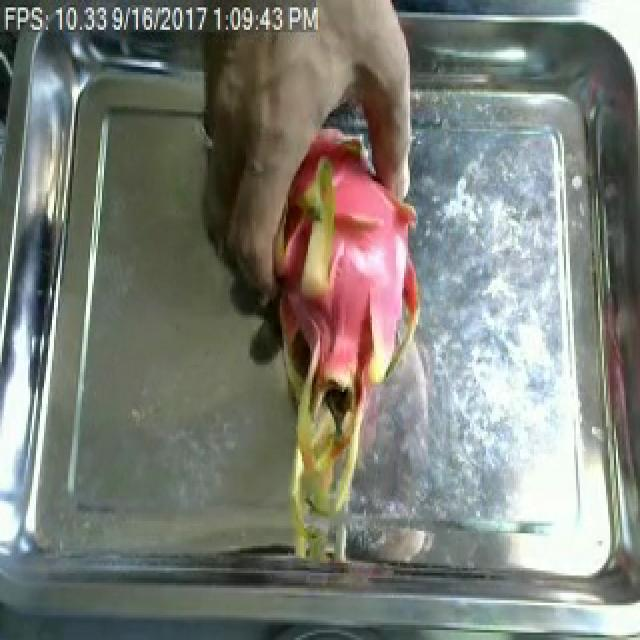fruit: (232, 109, 444, 561)
